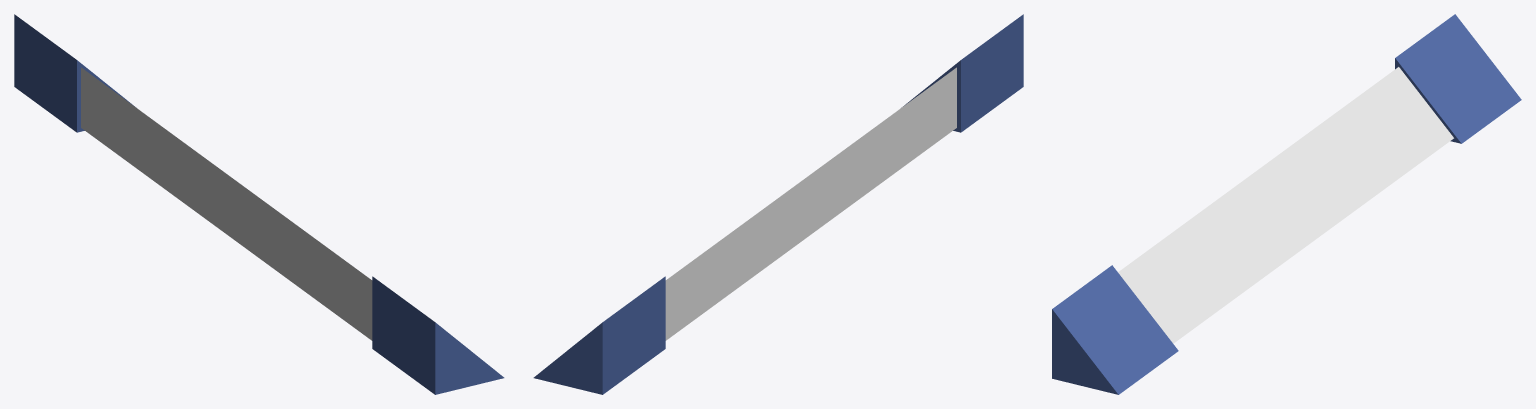
The model's file is 3fuseTriangleBlue.fbx.
3 renders of one model, left to right at view 1: azimuth 30°, elevation 25°; view 2: azimuth 150°, elevation 25°; view 3: azimuth 330°, elevation 25°, orthographic. The views are drawn at different scales.
Parts seen in each view (by area): view 1: 立方体; view 2: 立方体; view 3: 立方体.
Boxes of the visible parts, x1=… form: 立方体: x1=14, y1=14, x2=504, y2=394; 立方体: x1=533, y1=14, x2=1023, y2=394; 立方体: x1=1052, y1=14, x2=1521, y2=394.
Bounding box in the file's own units: 240 × 240 × 2520.
